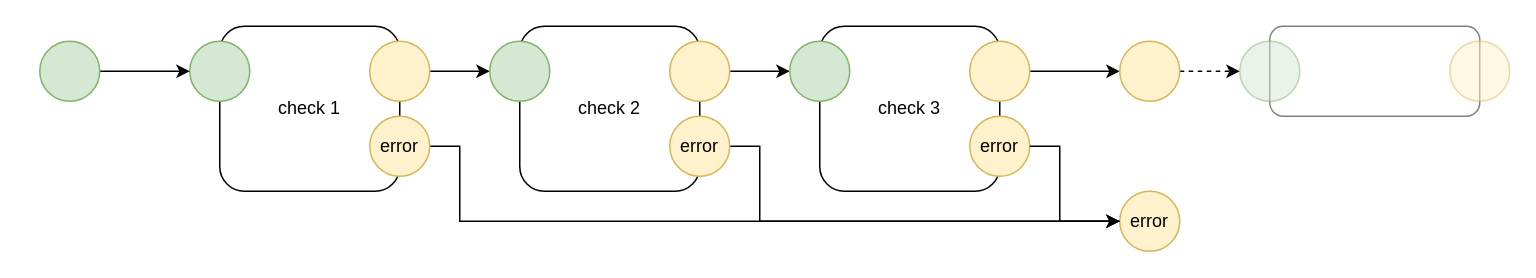
The diagram is 1536 pixels wide and 278 high, and some of its shapes have lost their labels. The box of each missing label's shape, as (x1, y1, x2, y2) in pixels:
checked: (1118, 40, 1180, 101)
process expecting checked input: (1268, 25, 1480, 116)
unchecked: (38, 40, 100, 101)
